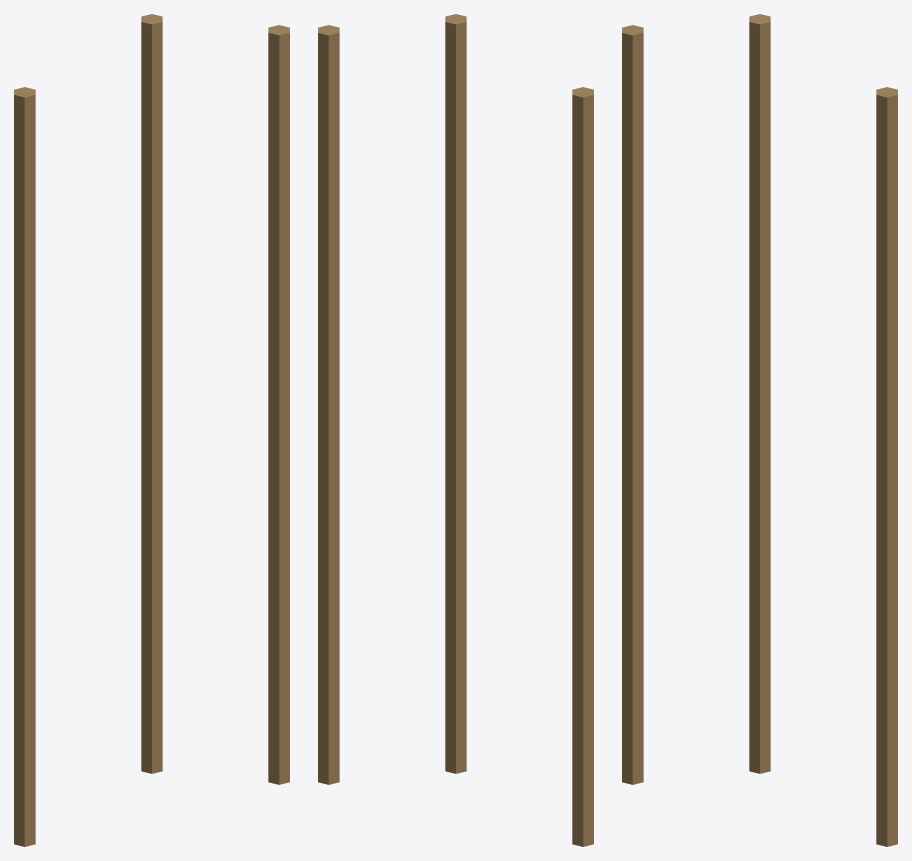
Rendered from arrowShafts.glb.
3 views of the same model, side by side, from view 1: azimuth 30°, elevation 25°; view 2: azimuth 150°, elevation 25°; view 3: azimuth 330°, elevation 25° (orthographic).
Parts seen in each view (by area): view 1: arrowShafts; view 2: arrowShafts; view 3: arrowShafts.
Part boxes in pixels (x1,y1,x2,y2): arrowShafts: (14, 14, 289, 846); arrowShafts: (318, 14, 593, 846); arrowShafts: (622, 14, 897, 846).
Size of the model in its own units: 0.3646 by 1 by 0.0245.
